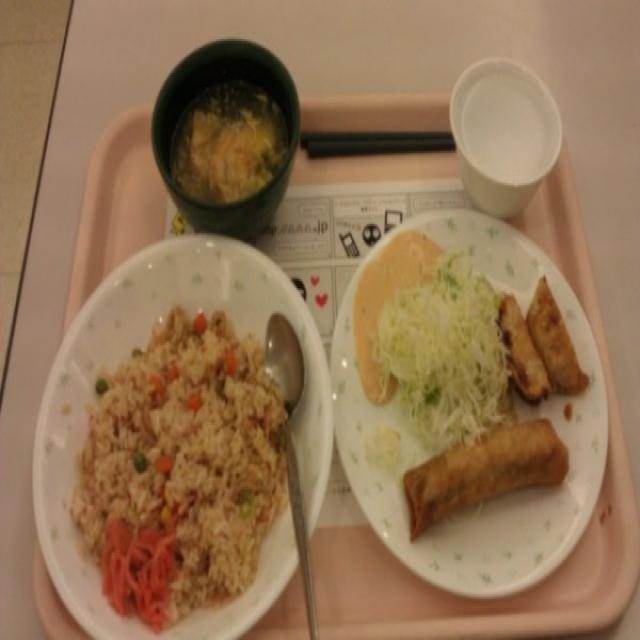Green Salad: (390, 265, 502, 434)
